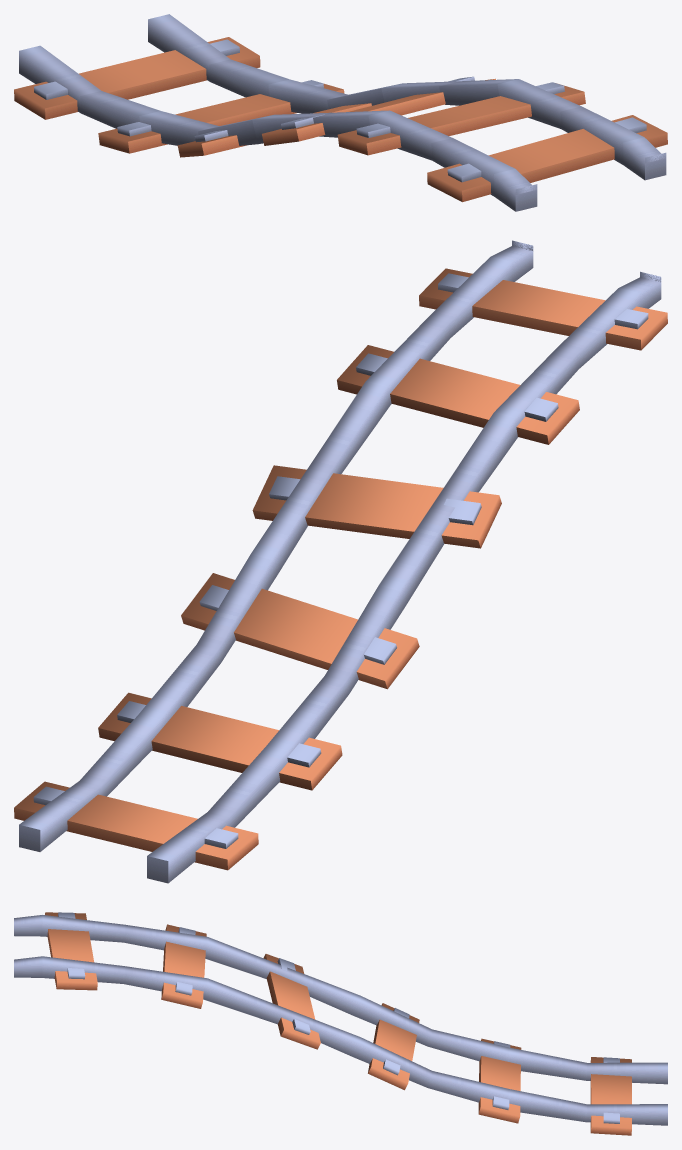
The model's file is kenney-train-railroad-damaged-straight-hill-complete.glb.
3 views of the same model, one above another, from view 1: azimuth 30°, elevation 25°; view 2: azimuth 150°, elevation 25°; view 3: azimuth 270°, elevation 25° (orthographic). The views are drawn at different scales.
Parts seen in each view (by area): view 1: railroad-damaged-straight-hill-complete; view 2: railroad-damaged-straight-hill-complete; view 3: railroad-damaged-straight-hill-complete.
Boxes of the visible parts, box(x1,y1,x2,y2) form: railroad-damaged-straight-hill-complete: box(14, 14, 667, 211); railroad-damaged-straight-hill-complete: box(14, 240, 667, 883); railroad-damaged-straight-hill-complete: box(14, 912, 667, 1135).
Size of the model in its own units: 1.02 by 1.1 by 4.
Materials: 1 (1 with a texture image).
